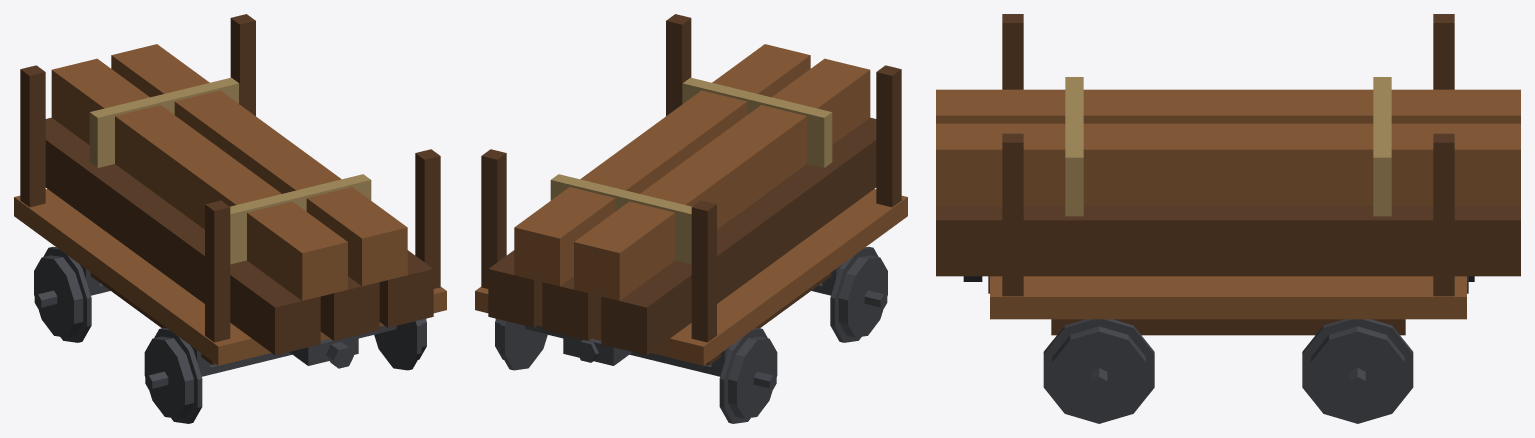
The model's file is mine_cart_flat.glb.
The picture shows the model from 3 angles, left to right: view 1: azimuth 30°, elevation 25°; view 2: azimuth 150°, elevation 25°; view 3: azimuth 270°, elevation 25°; orthographic projection. The views are drawn at different scales.
Visible parts, largest first — view 1: mine_cart_flat; view 2: mine_cart_flat; view 3: mine_cart_flat.
Boxes of the visible parts, bbox=[...] form: mine_cart_flat: bbox=[14, 14, 446, 423]; mine_cart_flat: bbox=[475, 14, 907, 423]; mine_cart_flat: bbox=[936, 14, 1520, 423].
Size of what is drawn, in the model's own units: 1.2 by 1.01 by 1.9.
